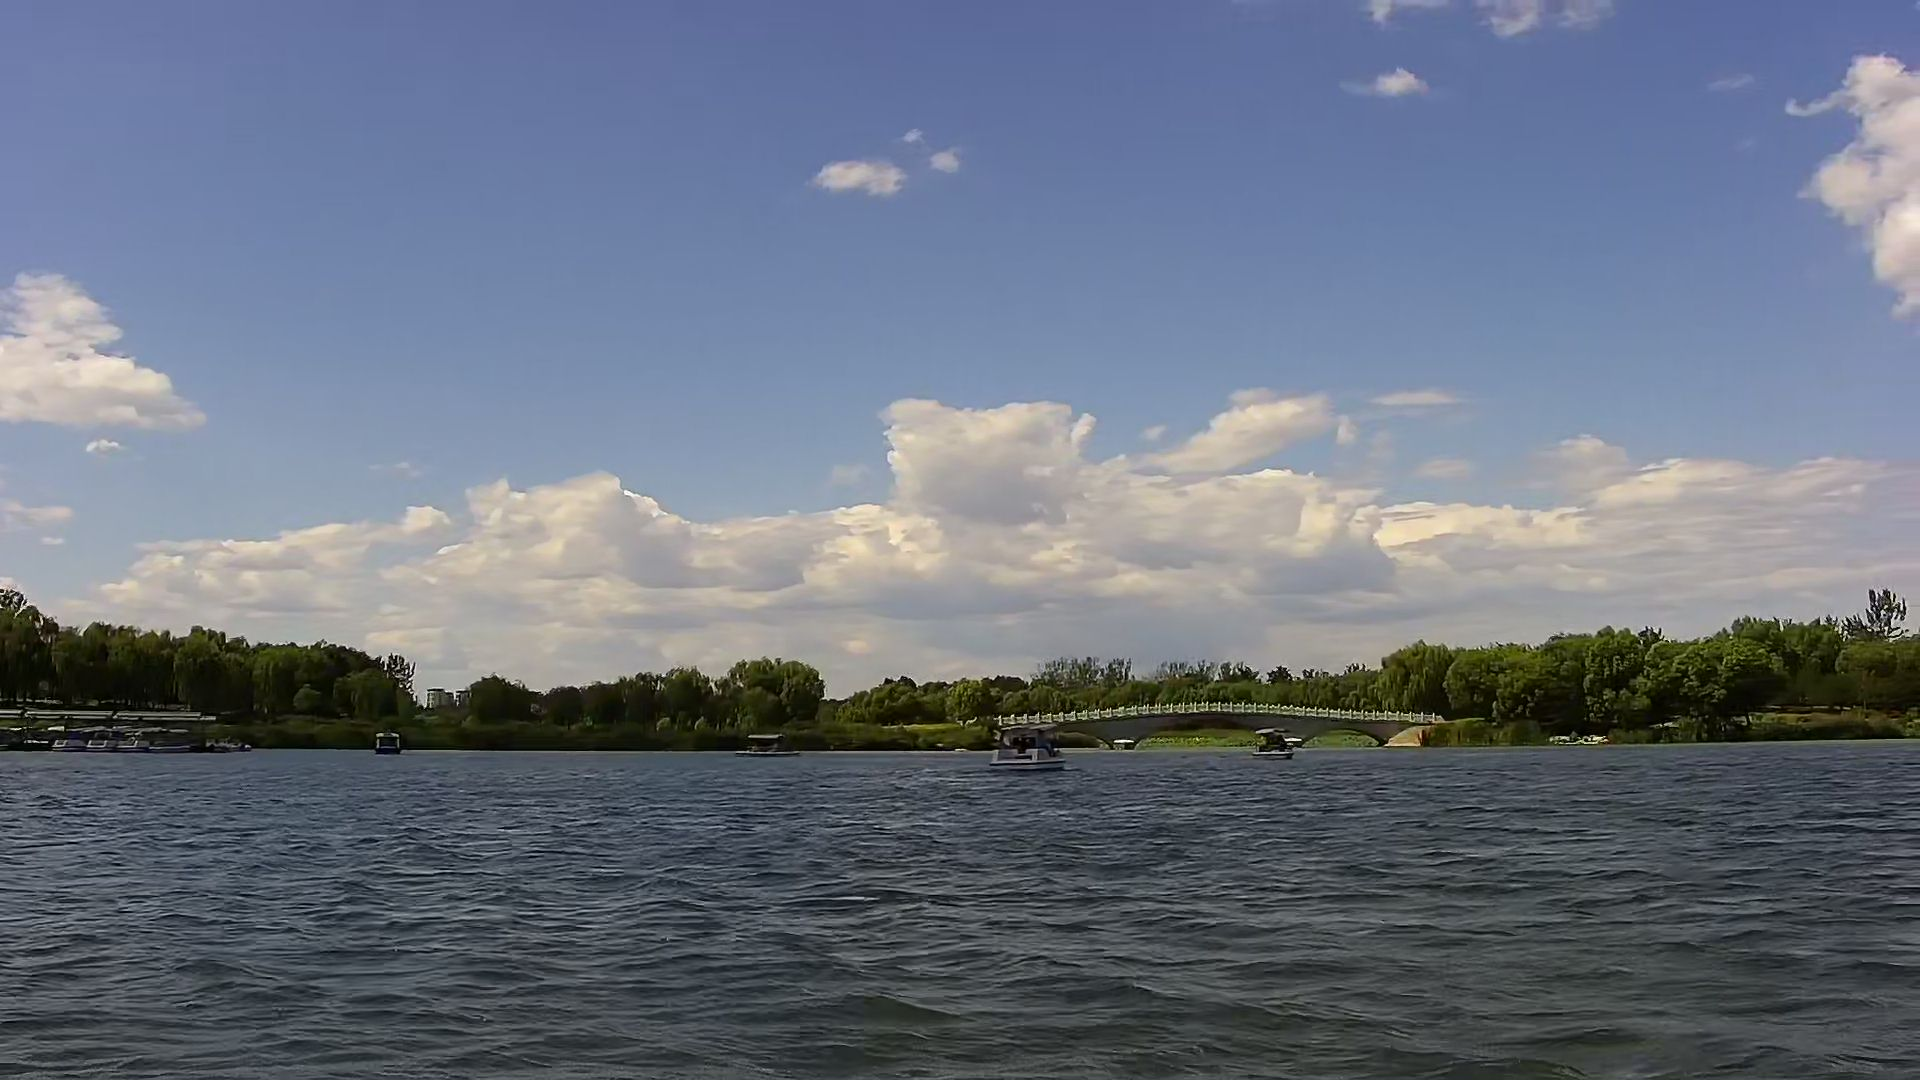boat: (985, 713, 1062, 771), (1240, 720, 1317, 764), (727, 727, 804, 756), (365, 723, 413, 760)
bridge: (981, 696, 1439, 760)
